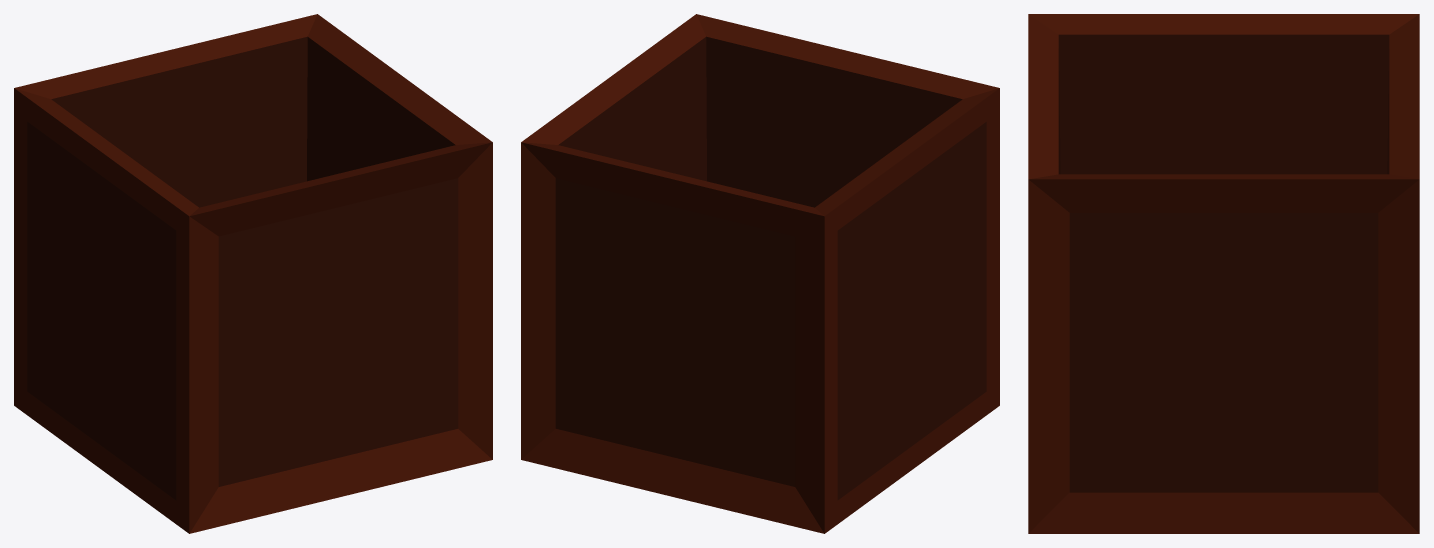
Rendered from crate_2.obj.
The picture shows the model from 3 angles, left to right: view 1: azimuth 30°, elevation 25°; view 2: azimuth 150°, elevation 25°; view 3: azimuth 270°, elevation 25°; orthographic projection. The views are drawn at different scales.
Visible parts, largest first — view 1: crate_2; view 2: crate_2; view 3: crate_2.
Boxes of the visible parts, x1,y1,x2,y2 form: crate_2: (14,14,492,533); crate_2: (521,14,999,533); crate_2: (1028,14,1419,533).
Bounding box in the file's own units: 0.3043 × 0.3043 × 0.3043.
